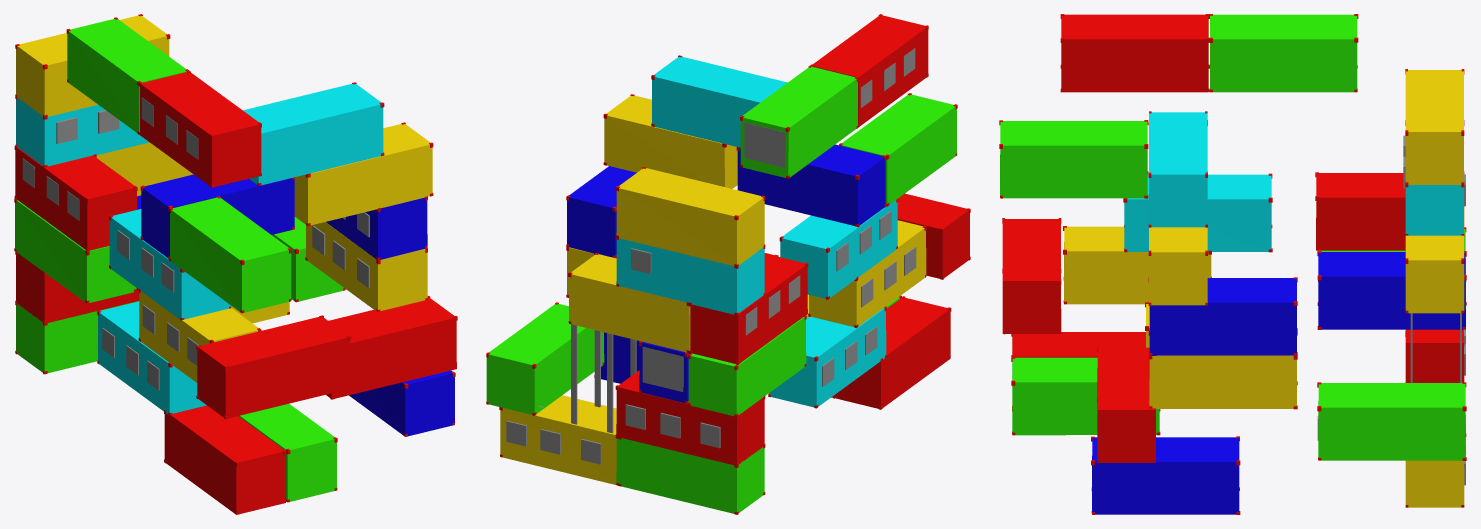
Rendered from ParentPart06FBX.FBX.
The picture shows the model from 3 angles, left to right: view 1: azimuth 30°, elevation 25°; view 2: azimuth 150°, elevation 25°; view 3: azimuth 270°, elevation 25°; orthographic projection. The views are drawn at different scales.
Visible parts, largest first — view 1: ParentPart6; view 2: ParentPart6; view 3: ParentPart6.
Boxes of the visible parts, <box> form: ParentPart6: <box>14,14,457,514</box>; ParentPart6: <box>486,14,970,514</box>; ParentPart6: <box>999,14,1466,514</box>.
Bounding box in the file's own units: 4.6 × 6.51 × 5.71.
